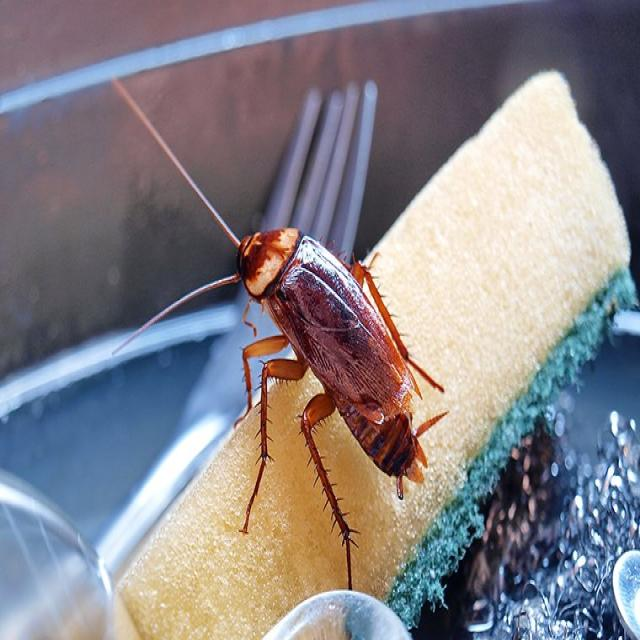Cockroach: (173, 170, 454, 566)
